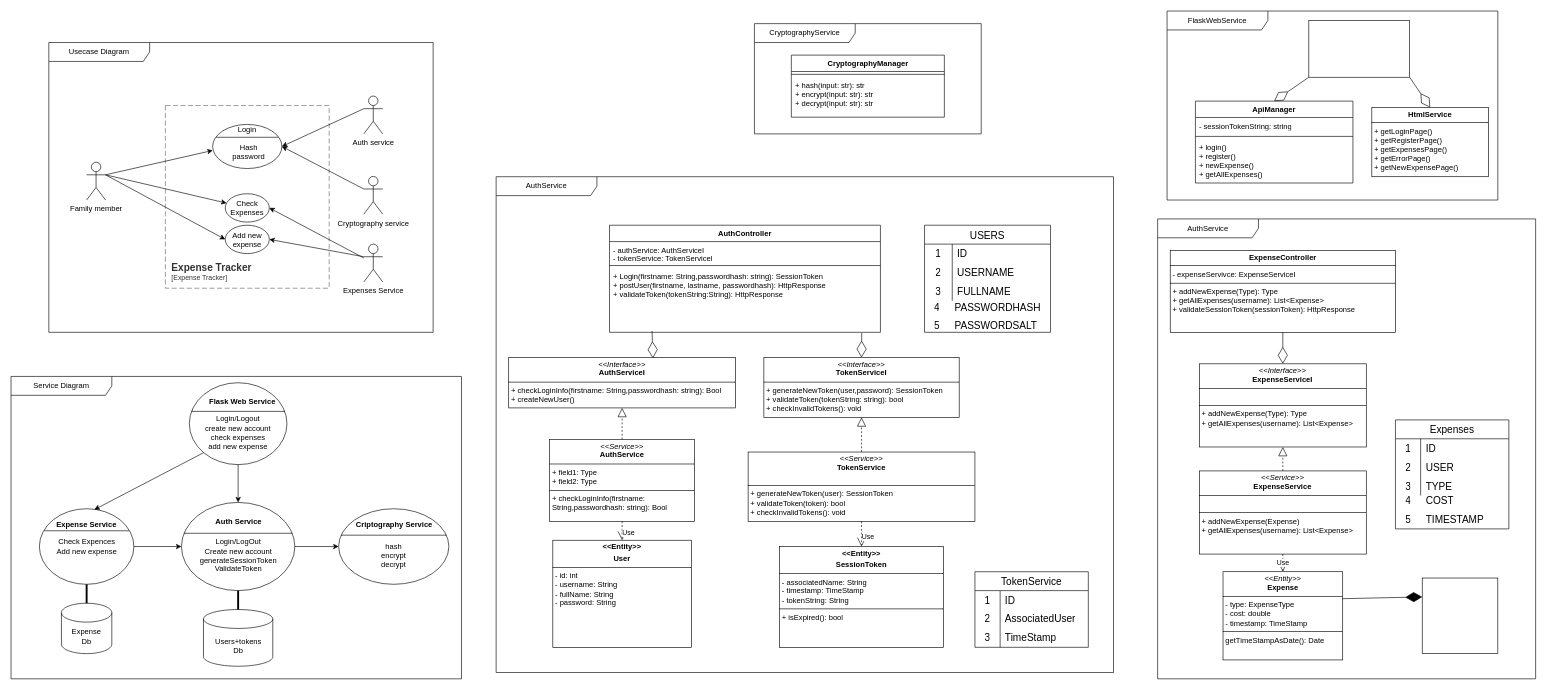
This 1547x690 diagram has some shape labels left out. The shapes that lost their labels are listed below. From the top down, each one's centre as x and y in pixels, then its label:
(x=1359, y=48): FlaskWebService - htmlService: HtmlService - apiService: ApiService
(x=1460, y=615): <<Enum>> ExpenseType UPKEEP FOOD FUN SCHOOL PERSONAL
